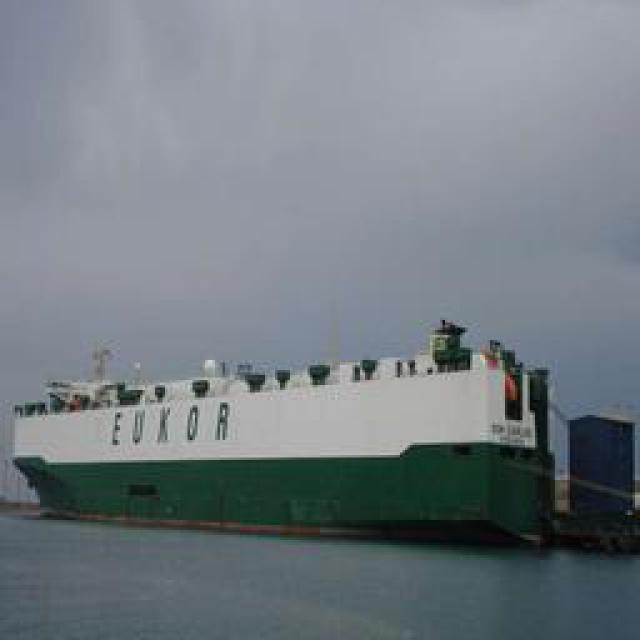Ship: (12, 303, 565, 531)
